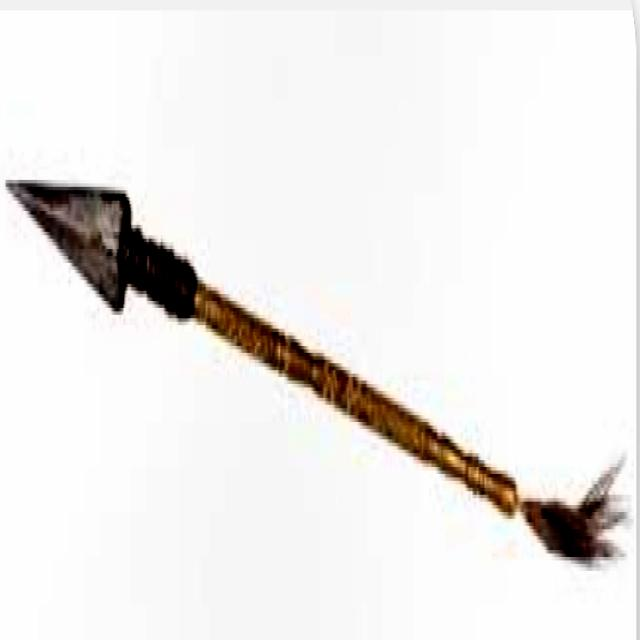spear: (0, 124, 630, 602)
